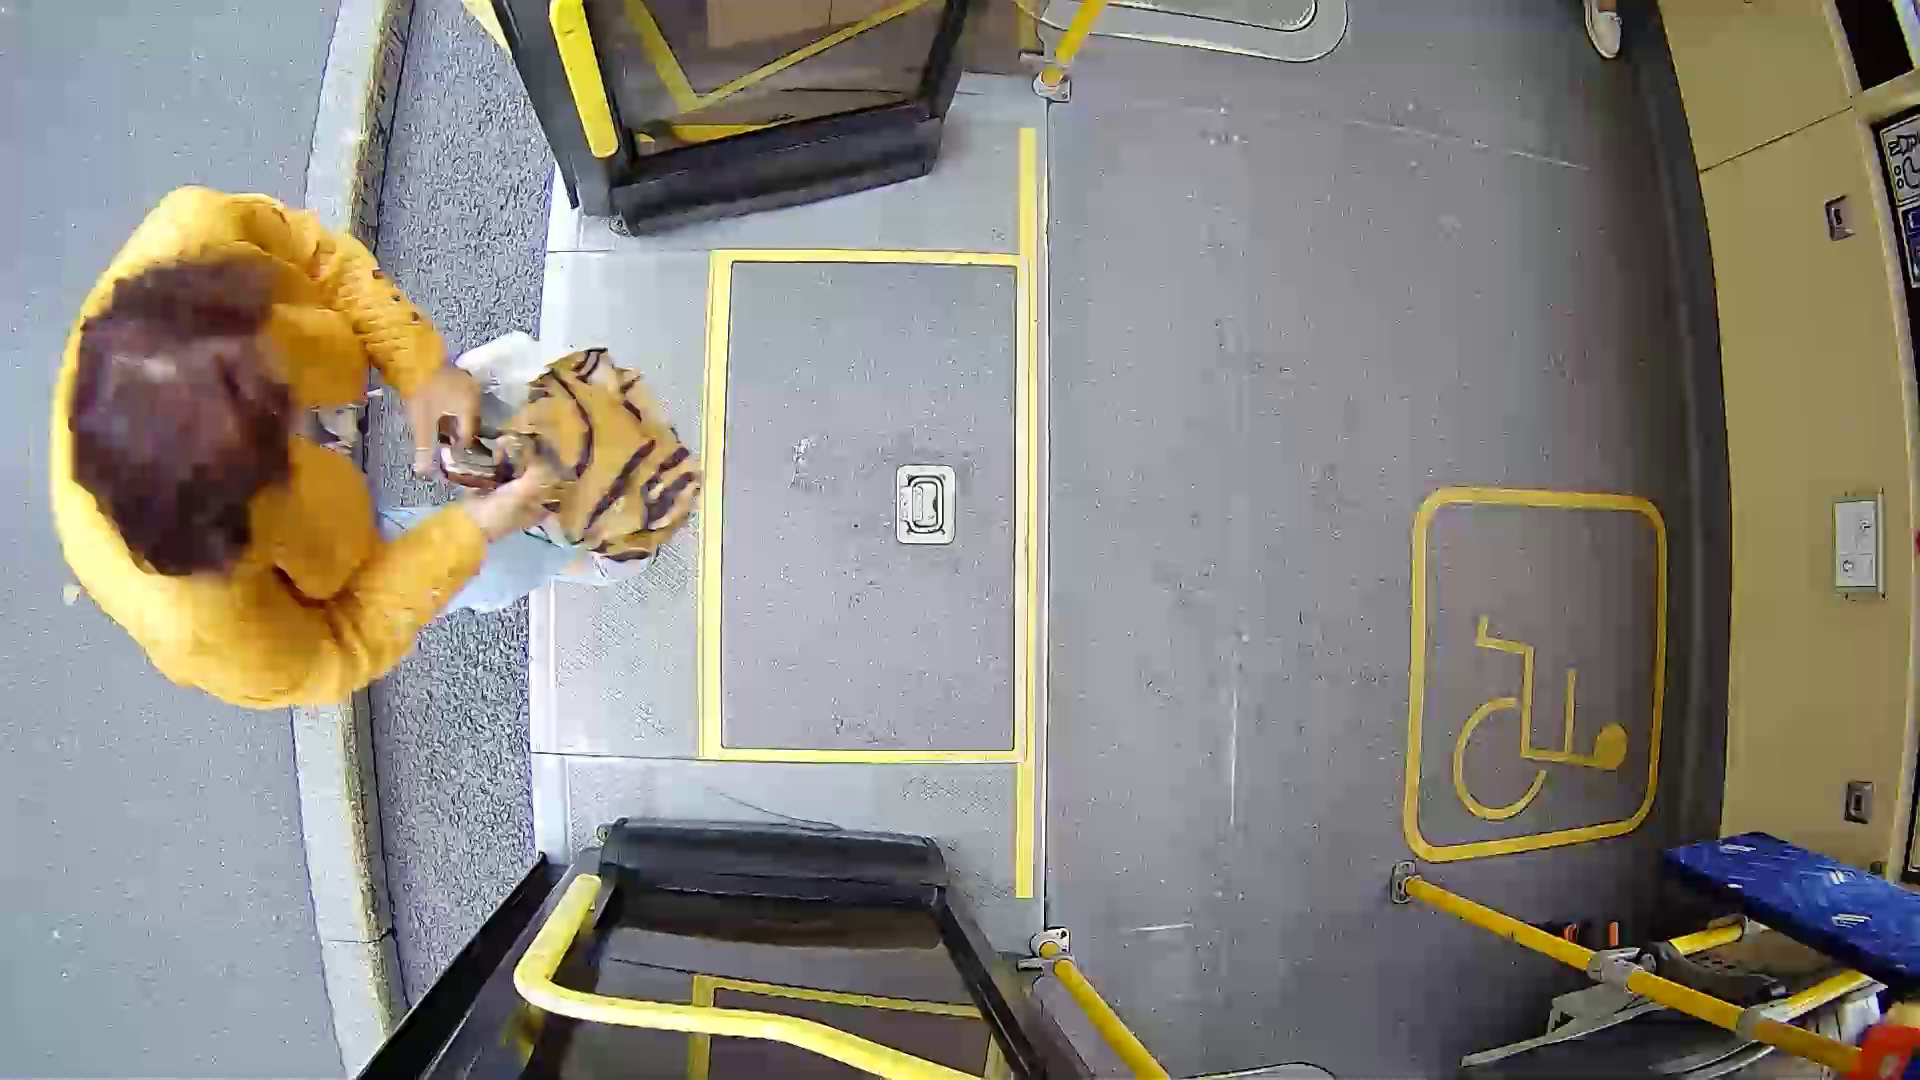person: (57, 199, 791, 727)
